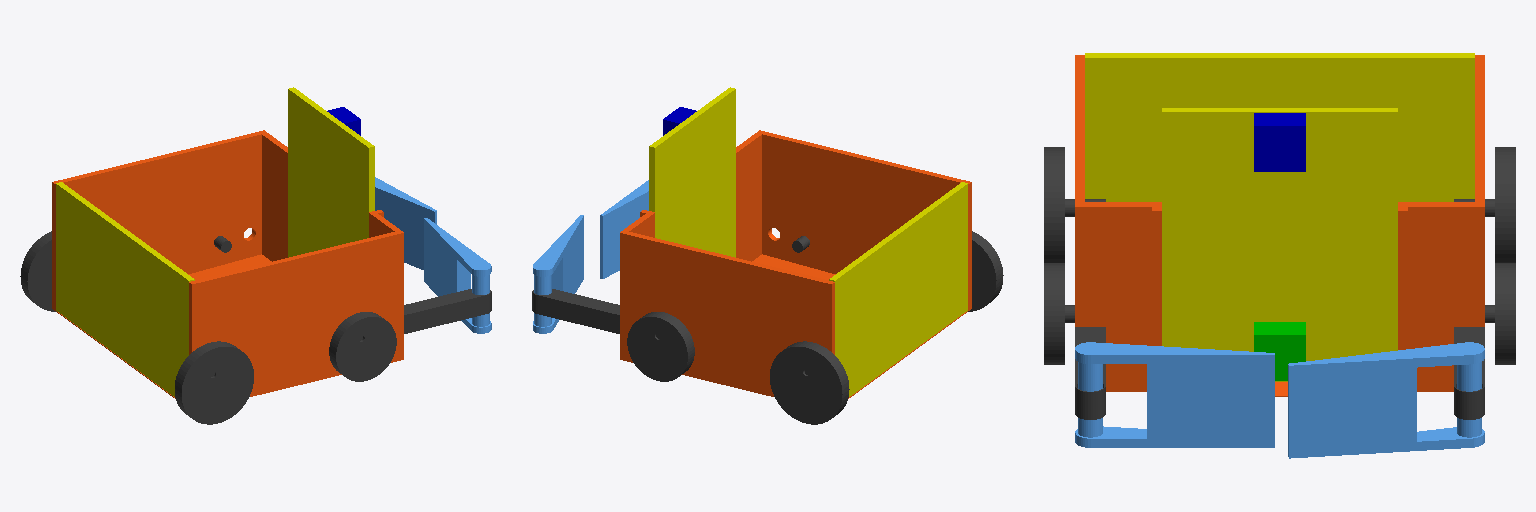
--- Facts derived from the render (not from the file) ---
3 views of the same robot in one strip: view 1: azimuth 30°, elevation 25°; view 2: azimuth 150°, elevation 25°; view 3: azimuth 270°, elevation 25° (orthographic).
Model bot1 with 14 links and 13 joints (2 revolute, 4 continuous, 2 prismatic, 5 fixed), rooted at base_link, posed all joints at 0.
Links seen in each view (by area): view 1: base_link, B, F, RRW, RF, FRW, LF, RA, RLW; view 2: base_link, B, F, RLW, FLW, LF, LA, RF, RRW; view 3: F, B, base_link, LF, RF, FC, RRW, RLW, FRW, FLW, L, LA (+1 smaller).
Boxes of the visible links, x1=… form: base_link: x1=52, y1=130, x2=403, y2=398; B: x1=56, y1=182, x2=194, y2=396; F: x1=288, y1=87, x2=374, y2=257; RRW: x1=175, y1=341, x2=253, y2=424; RF: x1=424, y1=218, x2=491, y2=333; FRW: x1=329, y1=312, x2=396, y2=381; LF: x1=375, y1=177, x2=436, y2=269; RA: x1=404, y1=289, x2=491, y2=333; RLW: x1=20, y1=231, x2=55, y2=311; base_link: x1=620, y1=130, x2=971, y2=398; B: x1=829, y1=182, x2=967, y2=396; F: x1=649, y1=87, x2=735, y2=257; RLW: x1=770, y1=341, x2=849, y2=424; FLW: x1=627, y1=312, x2=694, y2=381; LF: x1=533, y1=215, x2=583, y2=333; LA: x1=532, y1=289, x2=619, y2=333; RF: x1=600, y1=180, x2=648, y2=278; RRW: x1=968, y1=231, x2=1003, y2=311; F: x1=1162, y1=108, x2=1397, y2=381; B: x1=1085, y1=53, x2=1474, y2=201; base_link: x1=1075, y1=55, x2=1484, y2=396; LF: x1=1288, y1=342, x2=1484, y2=458; RF: x1=1075, y1=342, x2=1274, y2=447; FC: x1=1254, y1=113, x2=1305, y2=171; RRW: x1=1044, y1=147, x2=1105, y2=262; RLW: x1=1454, y1=147, x2=1515, y2=262; FRW: x1=1044, y1=263, x2=1074, y2=364; FLW: x1=1485, y1=263, x2=1515, y2=364; L: x1=1254, y1=322, x2=1305, y2=380; LA: x1=1454, y1=327, x2=1484, y2=419.
Size in the robot's own frame: 0.5594 by 0.46 by 0.315 metres.
13 mesh visuals loaded from 14 distinct referenced files (13 binary STL); not drawn: 1 (reference not matched to a file when rendering).

The robot description file, URDF, robot "bot1":
<?xml version="1.0" encoding="utf-8"?>

<robot
  name="bot1">

  <material name="black">
    <color rgba="0.0 0.0 0.0 1.0"/>
  </material>

  <material name="blue">
    <color rgba="0.0 0.0 0.8 1.0"/>
  </material>

  <material name="green">
    <color rgba="0.0 0.8 0.0 1.0"/>
  </material>

  <material name="grey">
    <color rgba="0.3 0.3 0.3 1.0"/>
  </material>

  <material name="orange">
    <color rgba="1 0.4 0.1 1"/>
  </material>

  <material name="red">
    <color rgba="0.8 0.0 0.0 1.0"/>
  </material>

  <material name="white">
    <color rgba="1.0 1.0 1.0 1.0"/>
  </material>

  <material name="yellow">
    <color rgba="0.9 0.9 0 1.0"/>
  </material>

  <material name="cyan">
    <color rgba="0.4 0.7 1 1.0"/>
  </material>

  <link
    name="base_link">
    <inertial>
      <origin
        xyz="0.045732 0.09332 1.1107E-16"
        rpy="0 0 0" />
      <mass
        value="2.0304" />
      <inertia
        ixx="0.072006"
        ixy="-0.00042676"
        ixz="-3.7413E-17"
        iyy="0.092836"
        iyz="-5.2298E-18"
        izz="0.036075" />
    </inertial>
    <visual>
      <origin
        xyz="0 0 0"
        rpy="0 0 0" />
      <geometry>
        <mesh
          filename="package://bot1/meshes/base_link.STL" />
      </geometry>
      <material
        name="orange">
      </material>
    </visual>
    <collision>
      <origin
        xyz="0 0 0"
        rpy="0 0 0" />
      <geometry>
        <mesh
          filename="package://bot1/meshes/base_link.STL" scale="1 1 1"/>
      </geometry>
    </collision>
  </link>
  <link
    name="B">
    <inertial>
      <origin
        xyz="0.005 0.1 2.2811E-17"
        rpy="0 0 0" />
      <mass
        value="0.76" />
      <inertia
        ixx="0.011679"
        ixy="1.0729E-20"
        ixz="1.7754E-20"
        iyy="0.0091517"
        iyz="1.7658E-19"
        izz="0.0025397" />
    </inertial>
    <visual>
      <origin
        xyz="0.175 0 0"
        rpy="0 0 0" />
      <geometry>
        <mesh
          filename="package://bot1/meshes/B.STL" />
      </geometry>
      <material
        name="yellow">
      </material>
    </visual>
    <collision>
      <origin
        xyz="0.175 0 0"
        rpy="0 0 0" />
      <geometry>
        <mesh
          filename="package://bot1/meshes/B.STL" />
      </geometry>
        <!--surface>
         <bounce>
          <restitution_coefficient>0.0</restitution_coefficient>
          <threshold>1000000</threshold>
         </bounce>
         <contact>
          <ode>
           <max_vel>0</max_vel>
          </ode>
         </contact>
        </surface-->
    </collision>
  </link>
  <joint
    name="BJ"
    type="prismatic">
    <origin
      xyz="-0.175 0 0.001"
      rpy="1.5708 0 0" />
    <parent
      link="base_link" />
    <child
      link="B" />
    <axis
      xyz="0 -1 0" />
    <limit
      lower="-0.15"
      upper="0"
      effort="10"
      velocity="0.1" />
    <!--safety_controller
      k_velocity="0" /-->
  </joint>
  <link
    name="FRW">
    <inertial>
      <origin
        xyz="-2.7756E-17 -3.7636E-05 -0.048156"
        rpy="0 0 0" />
      <mass
        value="0.16694" />
      <inertia
        ixx="0.00011342"
        ixy="0"
        ixz="2.647E-21"
        iyy="0.00011354"
        iyz="-6.1853E-08"
        izz="0.00019663" />
    </inertial>
    <visual>
      <origin
        xyz="0 0 0"
        rpy="0 0 0" />
      <geometry>
        <mesh
          filename="package://bot1/meshes/FRW.STL" />
      </geometry>
      <material
        name="grey">
      </material>
    </visual>
    <collision>
      <origin
        xyz="0 0 0"
        rpy="0 0 0" />
      <geometry>
        <mesh
          filename="package://bot1/meshes/FRW.STL" />
      </geometry>
    </collision>
  </link>
  <joint
    name="FRWJ"
    type="continuous">
    <origin
      xyz="0.095 -0.17 0.047"
      rpy="1.5707963267949 0.39309481042652 -3.14159265358979" />
    <parent
      link="base_link" />
    <child
      link="FRW" />
    <axis
      xyz="0 0 1" />
    <!--safety_controller
      k_velocity="0" /-->
  </joint>
  <link
    name="RRW">
    <inertial>
      <origin
        xyz="0 -3.7636E-05 -0.048156"
        rpy="0 0 0" />
      <mass
        value="0.16694" />
      <inertia
        ixx="0.00011342"
        ixy="1.0164E-20"
        ixz="2.6933E-21"
        iyy="0.00011354"
        iyz="-6.1853E-08"
        izz="0.00019663" />
    </inertial>
    <visual>
      <origin
        xyz="0 0 0"
        rpy="0 0 0" />
      <geometry>
        <mesh
          filename="package://bot1/meshes/RRW.STL" />
      </geometry>
      <material
        name="grey">
      </material>
    </visual>
    <collision>
      <origin
        xyz="0 0 0"
        rpy="0 0 0" />
      <geometry>
        <mesh
          filename="package://bot1/meshes/RRW.STL" />
      </geometry>
    </collision>
  </link>
  <joint
    name="RRWJ"
    type="continuous">
    <origin
      xyz="-0.065 -0.17 0.047"
      rpy="1.5707963267949 0.393094810426521 -3.14159265358979" />
    <parent
      link="base_link" />
    <child
      link="RRW" />
    <axis
      xyz="0 0 1" />
    <!--safety_controller
      k_velocity="0" /-->
  </joint>
  <link
    name="FLW">
    <inertial>
      <origin
        xyz="1.3878E-17 -3.7636E-05 -0.048156"
        rpy="0 0 0" />
      <mass
        value="0.16694" />
      <inertia
        ixx="0.00011342"
        ixy="-3.1238E-22"
        ixz="-9.8323E-22"
        iyy="0.00011354"
        iyz="-6.1853E-08"
        izz="0.00019663" />
    </inertial>
    <visual>
      <origin
        xyz="0 0 0"
        rpy="0 0 0" />
      <geometry>
        <mesh
          filename="package://bot1/meshes/FLW.STL" />
      </geometry>
      <material
        name="grey">
      </material>
    </visual>
    <collision>
      <origin
        xyz="0 0 0"
        rpy="0 0 0" />
      <geometry>
        <mesh
          filename="package://bot1/meshes/FLW.STL" />
      </geometry>
    </collision>
  </link>
  <joint
    name="FLWJ"
    type="continuous">
    <origin
      xyz="0.095 0.17 0.047"
      rpy="1.5707963267949 0 0" />
    <parent
      link="base_link" />
    <child
      link="FLW" />
    <axis
      xyz="0 0 -1" />
    <!--safety_controller
      k_velocity="0" /-->
  </joint>
  <link
    name="RLW">
    <inertial>
      <origin
        xyz="0 -3.7636E-05 -0.048156"
        rpy="0 0 0" />
      <mass
        value="0.16694" />
      <inertia
        ixx="0.00011342"
        ixy="-2.065E-22"
        ixz="-9.8323E-22"
        iyy="0.00011354"
        iyz="-6.1853E-08"
        izz="0.00019663" />
    </inertial>
    <visual>
      <origin
        xyz="0 0 0"
        rpy="0 0 0" />
      <geometry>
        <mesh
          filename="package://bot1/meshes/RLW.STL" />
      </geometry>
      <material
        name="grey">
      </material>
    </visual>
    <collision>
      <origin
        xyz="0 0 0"
        rpy="0 0 0" />
      <geometry>
        <mesh
          filename="package://bot1/meshes/RLW.STL" />
      </geometry>
    </collision>
  </link>
  <joint
    name="RLWJ"
    type="continuous">
    <origin
      xyz="-0.065 0.17 0.047"
      rpy="1.5707963267949 0 0" />
    <parent
      link="base_link" />
    <child
      link="RLW" />
    <axis
      xyz="0 0 -1" />
    <!--safety_controller
      k_velocity="0" /-->
  </joint>

### <!--removed cameras--> ###

  <!--link
    name="RC">
    <inertial>
      <origin
        xyz="0.015 0 0"
        rpy="0 0 0" />
      <mass
        value="0.075" />
      <inertia
        ixx="3.125E-05"
        ixy="-1.6263E-22"
        ixz="4.2352E-22"
        iyy="2.125E-05"
        iyz="-1.0334E-21"
        izz="2.125E-05" />
    </inertial>
    <visual>
      <origin
        xyz="0 0 0"
        rpy="0 0 0" />
      <geometry>
        <mesh
          filename="package://bot1/meshes/RC.STL" />
      </geometry>
      <material
        name="blue">
      </material>
    </visual>
    <collision>
      <origin
        xyz="0 0 0"
        rpy="0 0 0" />
      <geometry>
        <mesh
          filename="package://bot1/meshes/RC.STL" />
      </geometry>
    </collision>
  </link>
  <joint
    name="RCJ"
    type="fixed">
    <origin
      xyz="0.03 -0.23 0.125"
      rpy="1.5707963267949 1.57 3.14" />
    <parent
      link="base_link" />
    <child
      link="RC" />
    <axis
      xyz="0 0 0" />
    <safety_controller
      k_velocity="0" />
  </joint-->
  <!--link
    name="LC">
    <inertial>
      <origin
        xyz="0.015 0 0"
        rpy="0 0 0" />
      <mass
        value="0.075" />
      <inertia
        ixx="3.125E-05"
        ixy="1.6263E-22"
        ixz="-4.2352E-22"
        iyy="2.125E-05"
        iyz="-1.0334E-21"
        izz="2.125E-05" />
    </inertial>
    <visual>
      <origin
        xyz="0 0 0"
        rpy="0 0 0" />
      <geometry>
        <mesh
          filename="package://bot1/meshes/LC.STL" />
      </geometry>
      <material
        name="blue">
      </material>
    </visual>
    <collision>
      <origin
        xyz="0 0 0"
        rpy="0 0 0" />
      <geometry>
        <mesh
          filename="package://bot1/meshes/LC.STL" />
      </geometry>
    </collision>
  </link>
  <joint
    name="LCJ"
    type="fixed">
    <origin
      xyz="0.03 0.20 0.125"
      rpy="0 0 -4.71" />
    <parent
      link="base_link" />
    <child
      link="LC" />
    <axis
      xyz="0 0 0" />
    <safety_controller
      k_velocity="0" />
  </joint-->
  <link
    name="RA">
    <inertial>
      <origin
        xyz="0.064226 0 0"
        rpy="0 0 0" />
      <mass
        value="0.11493" />
      <inertia
        ixx="1.7546E-05"
        ixy="1.3293E-21"
        ixz="-5.3917E-21"
        iyy="0.0001712"
        iyz="-2.9655E-21"
        izz="0.00017089" />
    </inertial>
    <visual>
      <origin
        xyz="0 0 0"
        rpy="0 0 0" />
      <geometry>
        <mesh
          filename="package://bot1/meshes/RA.STL" />
      </geometry>
      <material
        name="grey">
      </material>
    </visual>
    <collision>
      <origin
        xyz="0 0 0"
        rpy="0 0 0" />
      <geometry>
        <mesh
          filename="package://bot1/meshes/RA.STL" />
      </geometry>
    </collision>
  </link>
  <joint
    name="RAJ"
    type="fixed">
    <origin
      xyz="0.175 -0.185 0.055"
      rpy="1.5707963267949 0 0" />
    <parent
      link="base_link" />
    <child
      link="RA" />
    <axis
      xyz="0 0 0" />
    <safety_controller
      k_velocity="0" />
  </joint>
  <link
    name="RF">
    <inertial>
      <origin
        xyz="0.075327 1.3878E-17 0.0052437"
        rpy="0 0 0" />
      <mass
        value="0.24614" />
      <inertia
        ixx="0.00024699"
        ixy="1.1698E-20"
        ixz="-4.7172E-05"
        iyy="0.00069522"
        iyz="3.0415E-20"
        izz="0.00092098" />
    </inertial>
    <visual>
      <origin
        xyz="-0.31 -0.05 -0.185"
        rpy="0 0 0" />
      <geometry>
        <mesh
          filename="package://bot1/meshes/RF.STL" />
      </geometry>
      <material
        name="cyan">
      </material>
    </visual>
    <collision>
      <origin
        xyz="-0.31 -0.05 -0.185"
        rpy="0 0 0" />
      <geometry>
        <mesh
          filename="package://bot1/meshes/RF.STL" />
      </geometry>
        <surface>
         <bounce>
          <restitution_coefficient>0.9</restitution_coefficient>
          <threshold>0</threshold>
         </bounce>
         <contact>
          <ode>
           <max_vel>10</max_vel>
          </ode>
         </contact>
        </surface>
    </collision>
  </link>
  <joint
    name="RFJ"
    type="revolute">
    <origin
      xyz="0.135 0 0"
      rpy="0 0.7854 0" />
    <parent
      link="RA" />
    <child
      link="RF" />
    <axis
      xyz="0 1 0" />
    <limit
      lower="-1.5"
      upper="0.2"
      effort="100"
      velocity="0.15" />
    <!--safety_controller
      k_velocity="0" /-->
  </joint>
  <link
    name="LA">
    <inertial>
      <origin
        xyz="0.064226 0 0"
        rpy="0 0 0" />
      <mass
        value="0.11493" />
      <inertia
        ixx="1.7546E-05"
        ixy="5.6286E-21"
        ixz="2.0529E-21"
        iyy="0.0001712"
        iyz="-2.9655E-21"
        izz="0.00017089" />
    </inertial>
    <visual>
      <origin
        xyz="-0.175 -0.055 0.185"
        rpy="0 0 0" />
      <geometry>
        <mesh
          filename="package://bot1/meshes/LA.STL" />
      </geometry>
      <material
        name="grey">
      </material>
    </visual>
    <collision>
      <origin
        xyz="-0.175 -0.055 0.185"
        rpy="0 0 0" />
      <geometry>
        <mesh
          filename="package://bot1/meshes/LA.STL" />
      </geometry>
    </collision>
  </link>
  <joint
    name="LAJ"
    type="fixed">
    <origin
      xyz="0.175 0.185 0.055"
      rpy="1.5708 0 0" />
    <parent
      link="base_link" />
    <child
      link="LA" />
    <axis
      xyz="0 0 0" />
    <safety_controller
      k_velocity="0" />
  </joint>
  <link
    name="LF">
    <inertial>
      <origin
        xyz="0.075327 6.9389E-18 0.0052437"
        rpy="0 0 0" />
      <mass
        value="0.24614" />
      <inertia
        ixx="0.00024699"
        ixy="2.2224E-20"
        ixz="-4.7172E-05"
        iyy="0.00069522"
        iyz="-1.3368E-20"
        izz="0.00092098" />
    </inertial>
    <visual>
      <origin
        xyz="-0.31 -0.05 0.185"
        rpy="0 0 0" />
      <geometry>
        <mesh
          filename="package://bot1/meshes/LF.STL" />
      </geometry>
      <material
        name="cyan">
      </material>
    </visual>
    <collision>
      <origin
        xyz="-0.31 -0.05 0.185"
        rpy="0 0 0" />
      <geometry>
        <mesh
          filename="package://bot1/meshes/LF.STL" />
      </geometry>
        <surface>
         <bounce>
          <restitution_coefficient>0.9</restitution_coefficient>
          <threshold>0</threshold>
         </bounce>
         <contact>
          <ode>
           <max_vel>10</max_vel>
          </ode>
         </contact>
        </surface>
    </collision>
  </link>
  <joint
    name="LFJ"
    type="revolute">
    <origin
      xyz="0.135 0 0"
      rpy="0 -0.64739 0" />
    <parent
      link="LA" />
    <child
      link="LF" />
    <axis
      xyz="0 1 0" />
    <limit
      lower="-0.34"
      upper="1.36"
      effort="100"
      velocity="0.15" />
    <mimic
      joint="RFJ" multiplier="-1" offset="0"/>
    <!--safety_controller
      k_velocity="0" /-->
  </joint>
  <link
    name="F">
    <inertial>
      <origin
        xyz="0 0 0"
        rpy="0 0 0" />
      <mass
        value="0" />
      <inertia
        ixx="0"
        ixy="0"
        ixz="0"
        iyy="0"
        iyz="0"
        izz="0" />
    </inertial>
    <visual>
      <origin
        xyz="-0.165 0 0"
        rpy="0 0 0" />
      <geometry>
        <mesh
          filename="package://bot1/meshes/F.STL" />
      </geometry>
      <material
        name="yellow">
      </material>
    </visual>
    <collision>
      <origin
        xyz="0 0 0"
        rpy="0 0 0" />
      <geometry>
        <mesh
          filename="package://bot1/meshes/F.STL" />
      </geometry>
    </collision>
  </link>
  <joint
    name="FJ"
    type="prismatic">
    <origin
      xyz="0.165 0 0.001"
      rpy="1.5708 0 0" />
    <parent
      link="base_link" />
    <child
      link="F" />
    <axis
      xyz="0 -1 0" />
    <limit
      lower="-0.18"
      upper="0"
      effort="10"
      velocity="0.1" />
    <!--safety_controller
      k_velocity="0" /-->
  </joint>
  <link
    name="FC">
    <inertial>
      <origin
        xyz="0.015 0 1.3105E-16"
        rpy="0 0 0" />
      <mass
        value="0.075" />
      <inertia
        ixx="3.125E-05"
        ixy="5.4323E-22"
        ixz="-2.4651E-36"
        iyy="2.125E-05"
        iyz="-1.8149E-21"
        izz="2.125E-05" />
    </inertial>
    <visual>
      <origin
        xyz="0 0 0"
        rpy="0 0 0" />
      <geometry>
        <mesh
          filename="package://bot1/meshes/FC.STL" />
      </geometry>
      <material
        name="blue">
      </material>
    </visual>
    <collision>
      <origin
        xyz="0 0 0"
        rpy="0 0 0" />
      <geometry>
        <mesh
          filename="package://bot1/meshes/FC.STL" />
      </geometry>
    </collision>
  </link>
  <joint
    name="FCJ"
    type="fixed">
    <origin
      xyz="0.01 0.275 0"
      rpy="-1.57 0 0" />
    <parent
      link="F" />
    <child
      link="FC" />
    <axis
      xyz="0 0 0" />
    <!--safety_controller
      k_velocity="0" /-->
  </joint>
  <link
    name="L">
    <inertial>
      <origin
        xyz="0.025 1.3878E-17 1.1371E-16"
        rpy="0 0 0" />
      <mass
        value="0.075" />
      <inertia
        ixx="3.125E-05"
        ixy="2.5429E-36"
        ixz="-5.8031E-37"
        iyy="2.125E-05"
        iyz="-2.9499E-21"
        izz="2.125E-05" />
    </inertial>
    <visual>
      <origin
        xyz="0 0 0"
        rpy="0 0 0" />
      <geometry>
        <mesh
          filename="package://bot1/meshes/L.STL" />
      </geometry>
      <material
        name="green">
      </material>
    </visual>
    <collision>
      <origin
        xyz="0 0 0"
        rpy="0 0 0" />
      <geometry>
        <mesh
          filename="package://bot1/meshes/L.STL" />
      </geometry>
    </collision>
  </link>
  <joint
    name="LJ"
    type="fixed">
    <origin
      xyz="0 0.05 0"
      rpy="0 0 0" />
    <parent
      link="F" />
    <child
      link="L" />
    <axis
      xyz="0 0 0" />
    <!--safety_controller
      k_velocity="0" /-->
  </joint>
  
  <!--LiDAR-->
  <link name="hokuyo_link">
    <collision>
      <origin xyz="0 0 0" rpy="0 0 0"/>
      <geometry>
    <box size="0.1 0.1 0.1"/>
      </geometry>
    </collision>

    <visual>
      <origin xyz="0 0 0" rpy="0 0 0"/>
      <geometry>
        <mesh filename="package://bot1/meshes/hokuyo.dae"/>
      </geometry>
    </visual>

    <inertial>
      <mass value="1e-5" />
      <origin xyz="0 0 0" rpy="0 0 0"/>
      <inertia ixx="1e-6" ixy="0" ixz="0" iyy="1e-6" iyz="0" izz="1e-6" />
    </inertial>
  </link>

  <joint name="hokuyo_joint" type="fixed">
    <origin
      xyz="0.04 0.05 0"
      rpy="-1.57 0 0" />
    <parent
      link="F" />
	<child link="hokuyo_link"/>
    <axis
      xyz="0 1 0" />
    <!-- <safety_controller
      k_velocity="0" /> -->
  </joint>

   <gazebo reference="hokuyo_link">
    <sensor type="ray" name="head_hokuyo_sensor">
      <pose>0 0 0 0 0 0</pose>
      <visualize>true</visualize>
      <update_rate>40</update_rate>
      <ray>
        <scan>
          <horizontal>
            <samples>21</samples>
            <resolution>1</resolution>
            <min_angle>-0.000001</min_angle>
            <max_angle>0.000001</max_angle>
          </horizontal>
        </scan>
        <range>
          <min>0.20</min>
          <max>3.0</max>
          <resolution>0.01</resolution>
        </range>
        <noise>
          <type>gaussian</type>
          <!-- Noise parameters based on published spec for Hokuyo laser
               achieving "+-30mm" accuracy at range < 10m.  A mean of 0.0m and
               stddev of 0.01m will put 99.7% of samples within 0.03m of the true
               reading. -->
          <mean>0.0</mean>
          <stddev>0.01</stddev>
        </noise>
      </ray>
      <plugin name="gazebo_ros_head_hokuyo_controller" filename="libgazebo_ros_laser.so">
        <topicName>/umic_bot/laser/scan</topicName>
        <frameName>hokuyo_link</frameName>
      </plugin>
    </sensor>
  </gazebo>

  <!--mimic plugin-->
   <mimic_joint_plugin_gazebo
      name_prefix="LFJ"
      parent_joint="RFJ" mimic_joint="LFJ"
      multiplier="-1.0"
      max_effort="100.0" />
   <gazebo>
    <plugin name="mimic_joint_plugin" filename="libroboticsgroup_gazebo_mimic_joint_plugin.so">
     <joint>RFJ</joint>
     <mimicJoint>LFJ</mimicJoint>
     <multiplier>-1</multiplier>
     <offset>0</offset>
     <maxEffort>100.0</maxEffort>
    </plugin>
   </gazebo> 
	
	<!--camera plugins-->
  <gazebo reference="FC">
    <material>Gazebo/Green</material>
    <sensor type="camera" name="camera1">
      <update_rate>10.0</update_rate>
      <camera name="front_cam">
        <horizontal_fov>1.3962634</horizontal_fov>
        <image>
          <width>800</width>
          <height>800</height>
          <format>R8G8B8</format>
        </image>
        <clip>
          <near>0.02</near>
          <far>300</far>
        </clip>
      </camera>
      <plugin name="camera_controller" filename="libgazebo_ros_camera.so">
        <alwaysOn>true</alwaysOn>
        <updateRate>0.0</updateRate>
        <cameraName>mybot/camera1</cameraName>
        <imageTopicName>image_raw</imageTopicName>
        <cameraInfoTopicName>camera_info</cameraInfoTopicName>
        <frameName>camera</frameName>
        <hackBaseline>0.07</hackBaseline>
        <distortionK1>0.0</distortionK1>
        <distortionK2>0.0</distortionK2>
        <distortionK3>0.0</distortionK3>
        <distortionT1>0.0</distortionT1>
        <distortionT2>0.0</distortionT2>
      </plugin>
    </sensor>
  </gazebo>
   

  <!--Physical parameters-->
    <gazebo reference="FLW">
      <mu1 value="10000000.0"/>
      <mu2 value="10000000.0"/>
      <kp value="10000000.0" />
      <kd value="1.0" />
    </gazebo>  

    <gazebo reference="FLW">
      <mu1 value="1000000.0"/>
      <mu2 value="1000000.0"/>
      <kp value="10000000.0" />
      <kd value="1.0" />
    </gazebo>  

    <gazebo reference="FLW">
      <mu1 value="1000000.0"/>
      <mu2 value="1000000.0"/>
      <kp value="10000000.0" />
      <kd value="1.0" />
    </gazebo>  

    <gazebo reference="FLW">
      <mu1 value="1000000.0"/>
      <mu2 value="1000000.0"/>
      <kp value="10000000.0" />
      <kd value="1.0" />
    </gazebo>  

  <!--Differential_Transmissions-->
    <transmission name="FLW_trans">
      <type>transmission_interface/SimpleTransmission</type>
      <actuator name="FLW_wheel_motor">
        <mechanicalReduction>1</mechanicalReduction>
      </actuator>
      <joint name="FLWJ">
        <hardwareInterface>VelocityJointInterface</hardwareInterface>
      </joint>
    </transmission>

    <transmission name="FRW_trans">
      <type>transmission_interface/SimpleTransmission</type>
      <actuator name="FRW_wheel_motor">
        <mechanicalReduction>1</mechanicalReduction>
      </actuator>
      <joint name="FRWJ">
        <hardwareInterface>VelocityJointInterface</hardwareInterface>
      </joint>
    </transmission>

    <transmission name="RLW_trans">
      <type>transmission_interface/SimpleTransmission</type>
      <actuator name="RLW_wheel_motor">
        <mechanicalReduction>1</mechanicalReduction>
      </actuator>
      <joint name="RLWJ">
        <hardwareInterface>VelocityJointInterface</hardwareInterface>
      </joint>
    </transmission>

    <transmission name="RRW_trans">
      <type>transmission_interface/SimpleTransmission</type>
      <actuator name="RRW_wheel_motor">
        <mechanicalReduction>1</mechanicalReduction>
      </actuator>
      <joint name="RRWJ">
        <hardwareInterface>VelocityJointInterface</hardwareInterface>
      </joint>
    </transmission>

  <!--Gates_Transmission-->
    <transmission name="Front_Gate_Trans" type="SimpleTransmission">
      <type>transmission_interface/SimpleTransmission</type>
      <actuator name="Front_Gate_motor">
        <mechanicalReduction>1</mechanicalReduction>
      </actuator>
      <joint name="FJ">
        <hardwareInterface>EffortJointInterface</hardwareInterface>
      </joint>
    </transmission>

    <transmission name="Back_Gate_Trans" type="SimpleTransmission">
      <type>transmission_interface/SimpleTransmission</type>
      <actuator name="Back_Gate_Motor">
        <mechanicalReduction>1</mechanicalReduction>
      </actuator>
      <joint name="BJ">
        <hardwareInterface>EffortJointInterface</hardwareInterface>
      </joint>
    </transmission>

  <!--Flaps Transmission-->
    <transmission name="left_flap_Trans" type="SimpleTransmission">
      <type>transmission_interface/SimpleTransmission</type>
      <actuator name="left_flap_motor">
        <mechanicalReduction>1</mechanicalReduction>
      </actuator>
      <joint name="LFJ">
        <hardwareInterface>EffortJointInterface</hardwareInterface>
      </joint>
    </transmission>

    <transmission name="right_flap_Trans" type="SimpleTransmission">
      <type>transmission_interface/SimpleTransmission</type>
      <actuator name="right_flap_motor">
        <mechanicalReduction>1</mechanicalReduction>
      </actuator>
      <joint name="RFJ">
        <hardwareInterface>EffortJointInterface</hardwareInterface>
      </joint>
    </transmission>
   
  <!-- Gazebo plugin for ROS Control -->
   <gazebo>
     <plugin name="gazebo_ros_control" filename="libgazebo_ros_control.so">
     </plugin>
   </gazebo>

</robot>
